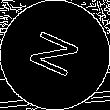N_SE: (24, 26, 86, 84)
